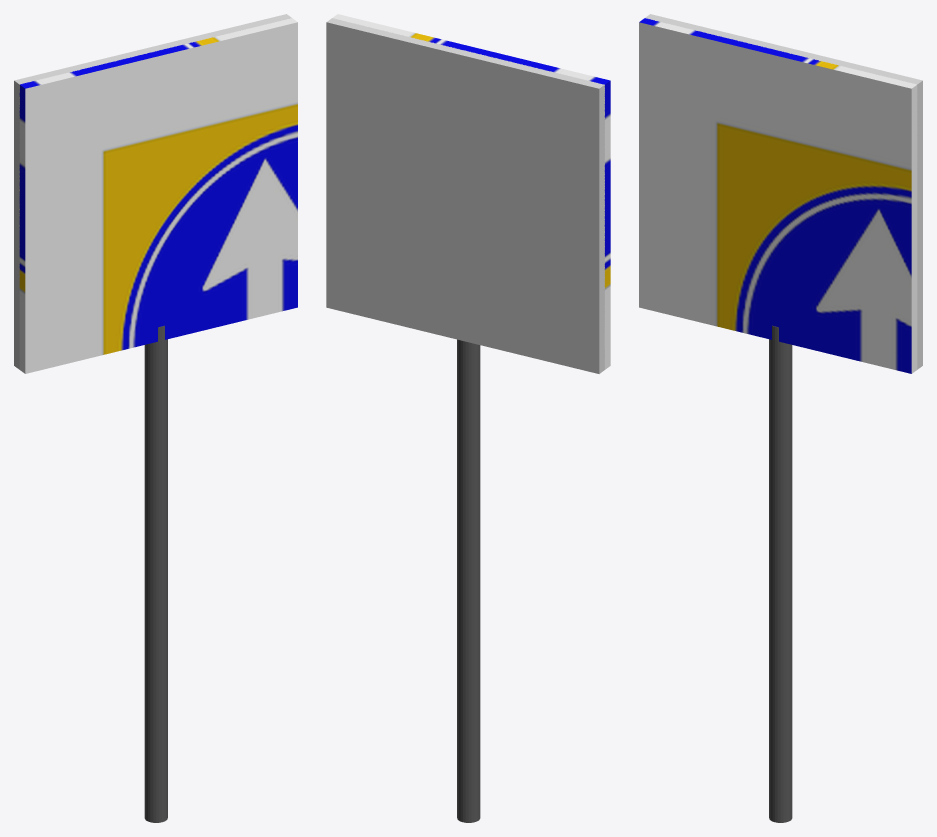
The model's file is teknofest_sign_ileri_ve_saga_mecburi_yon.fbx.
The picture shows the model from 3 angles, left to right: view 1: azimuth 30°, elevation 25°; view 2: azimuth 150°, elevation 25°; view 3: azimuth 330°, elevation 25°; orthographic projection.
Parts seen in each view (by area): view 1: teknofest_sign_ileri_ve_saga_mecburi_yon_board, teknofest_sign_ileri_ve_saga_mecburi_yon_pole, teknofest_sign_ileri_ve_saga_mecburi_yon_back; view 2: teknofest_sign_ileri_ve_saga_mecburi_yon_back, teknofest_sign_ileri_ve_saga_mecburi_yon_pole, teknofest_sign_ileri_ve_saga_mecburi_yon_board; view 3: teknofest_sign_ileri_ve_saga_mecburi_yon_board, teknofest_sign_ileri_ve_saga_mecburi_yon_pole, teknofest_sign_ileri_ve_saga_mecburi_yon_back.
Part boxes in pixels (x1=…): teknofest_sign_ileri_ve_saga_mecburi_yon_board: x1=19, y1=18, x2=297, y2=373; teknofest_sign_ileri_ve_saga_mecburi_yon_pole: x1=144, y1=325, x2=167, y2=822; teknofest_sign_ileri_ve_saga_mecburi_yon_back: x1=14, y1=14, x2=291, y2=369; teknofest_sign_ileri_ve_saga_mecburi_yon_back: x1=326, y1=18, x2=604, y2=373; teknofest_sign_ileri_ve_saga_mecburi_yon_pole: x1=457, y1=339, x2=480, y2=822; teknofest_sign_ileri_ve_saga_mecburi_yon_board: x1=333, y1=14, x2=610, y2=369; teknofest_sign_ileri_ve_saga_mecburi_yon_board: x1=639, y1=18, x2=917, y2=373; teknofest_sign_ileri_ve_saga_mecburi_yon_pole: x1=769, y1=325, x2=792, y2=822; teknofest_sign_ileri_ve_saga_mecburi_yon_back: x1=645, y1=14, x2=922, y2=369.
Bounding box in the file's own units: 95 × 255 × 7.05.
3 materials, 1 textured.
